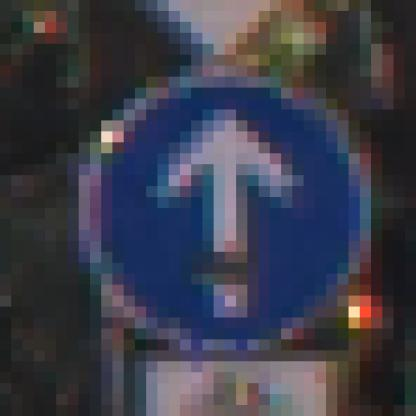AheadOnly: (57, 56, 350, 351)
